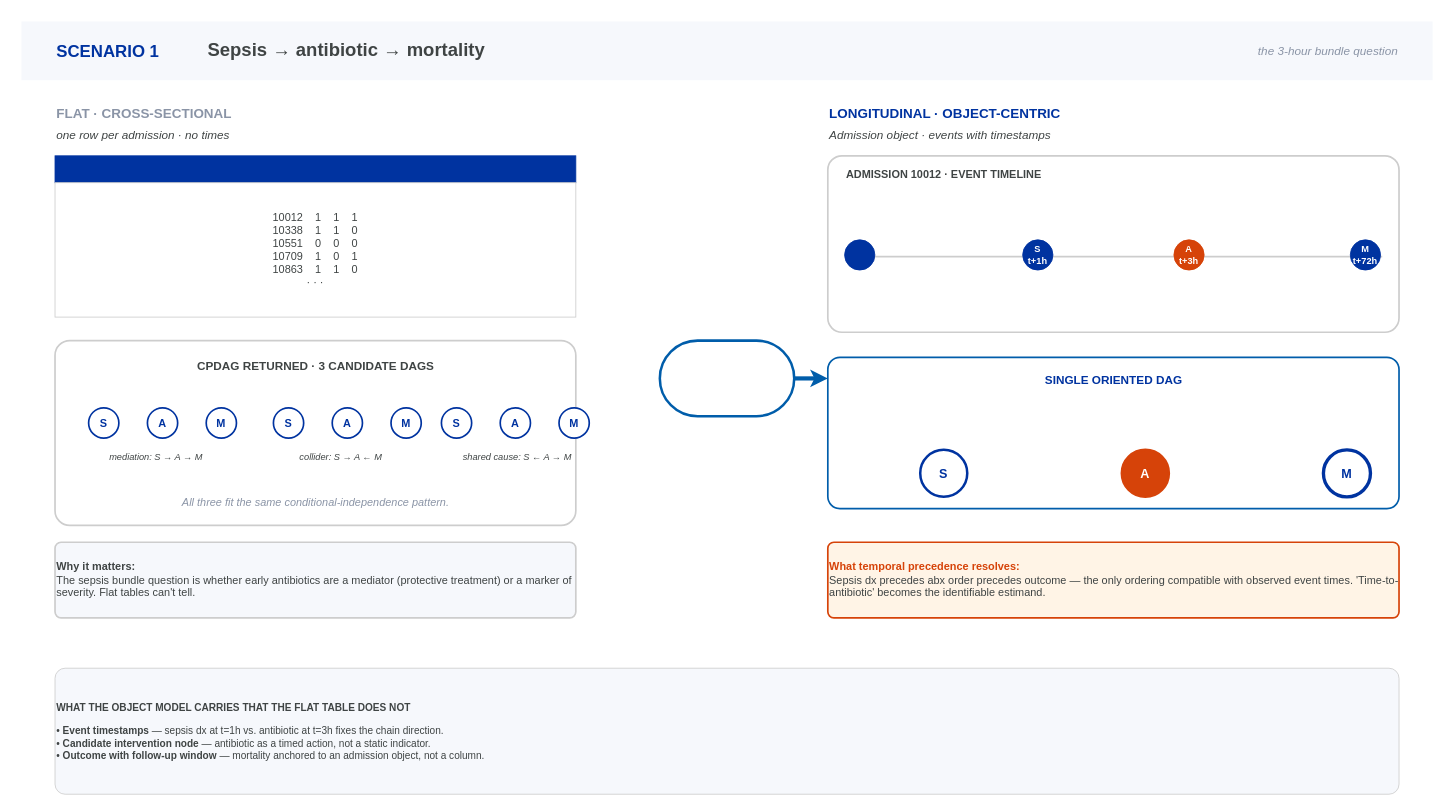
This 1446x809 diagram has some shape labels left out. Here are the shapes that lost their labels. From the top down, the centre of each, then its label:
At pixel 315 169: "admission_id | sepsis | broad_abx | mortality".
At pixel 859 254: "ED t=0h".
At pixel 726 378: "object + timestamps".
